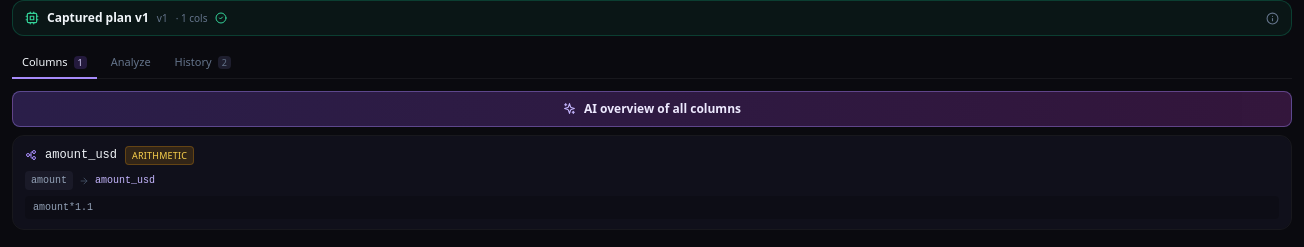
Test: ColumnTransformationPanel › shows the cross-version compare controls when 2+ versions exist
This screenshot has width=1304, height=247.
Click the tab "History 2". click: (203,63)
box: [165,48,241,78]
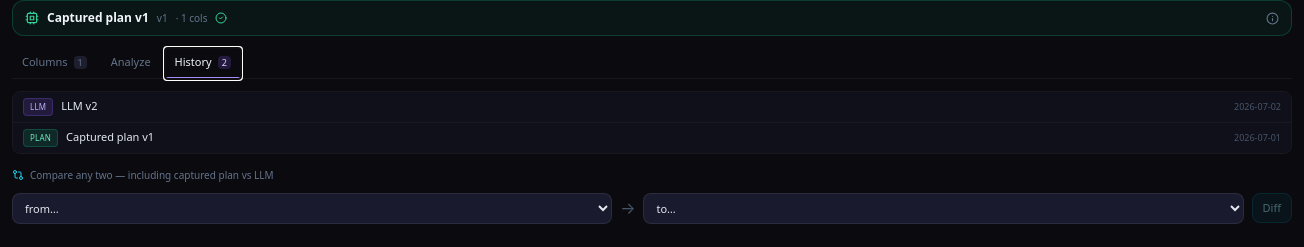
Expected: the number of dropdowns is 2, [12,192,612,224]; [643,192,1244,224]
Expected: the button "Diff" is shown, [1252,193,1292,223]
